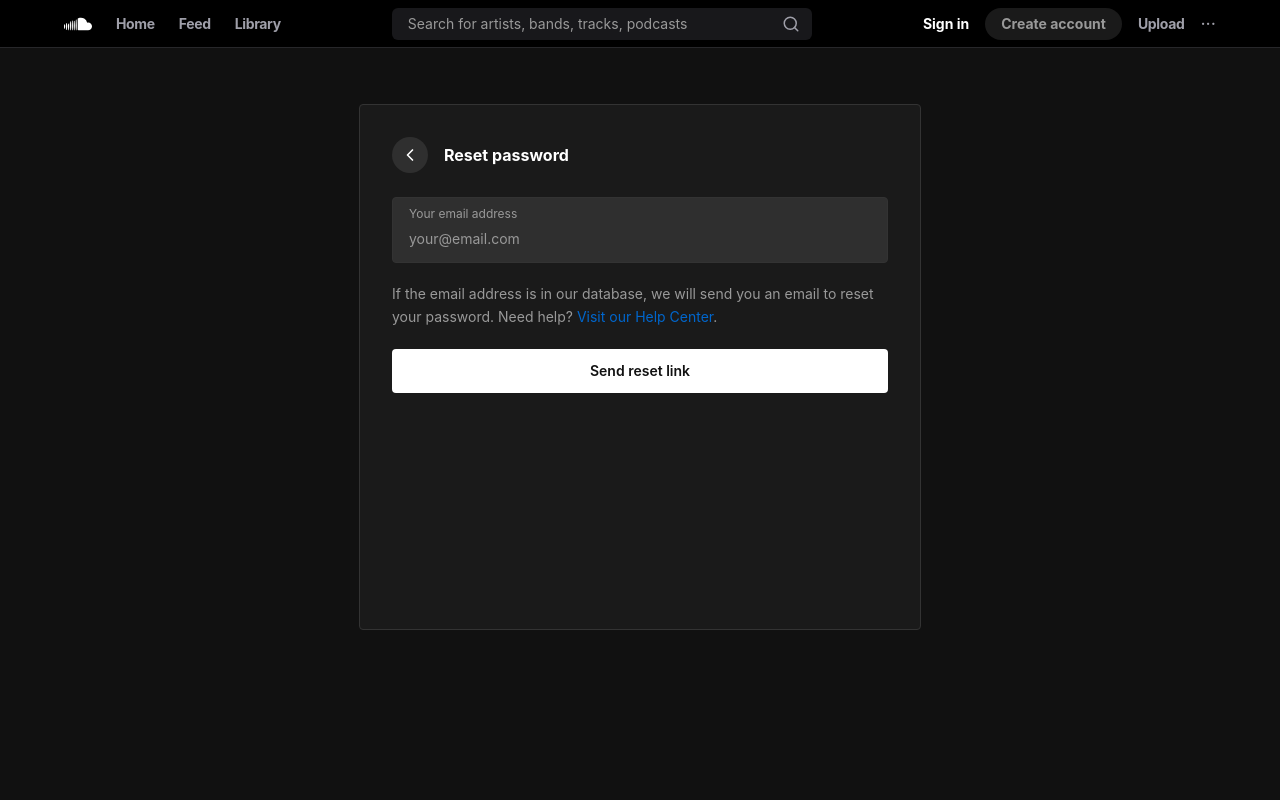
it: ForgotPasswordPage — validation › shows error for invalid email format
This screenshot has width=1280, height=800.
Type "notanemail" into the field with placeholder "your@email.com". click: {"x": 640, "y": 239}
box: [409,229,871,249]
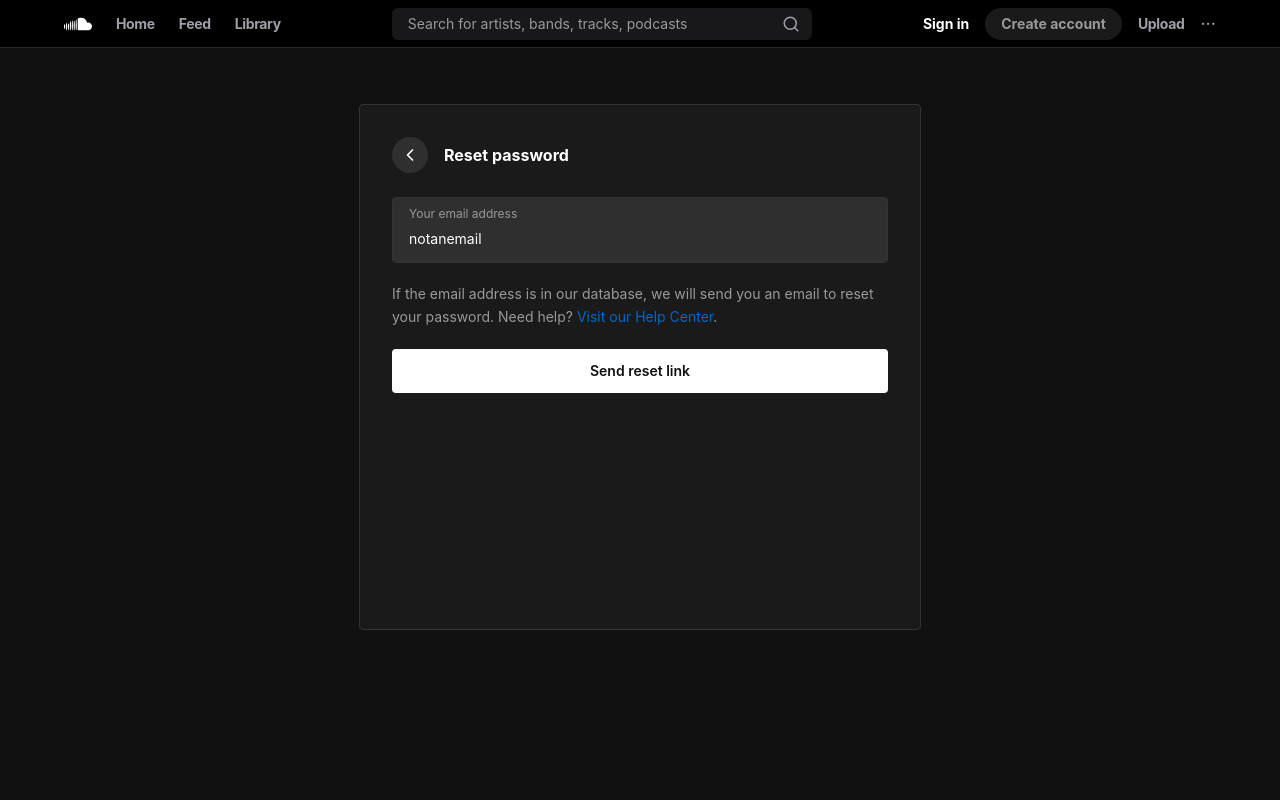
Click the button "Send reset link". click: {"x": 640, "y": 370}
box: [392,348,888,392]
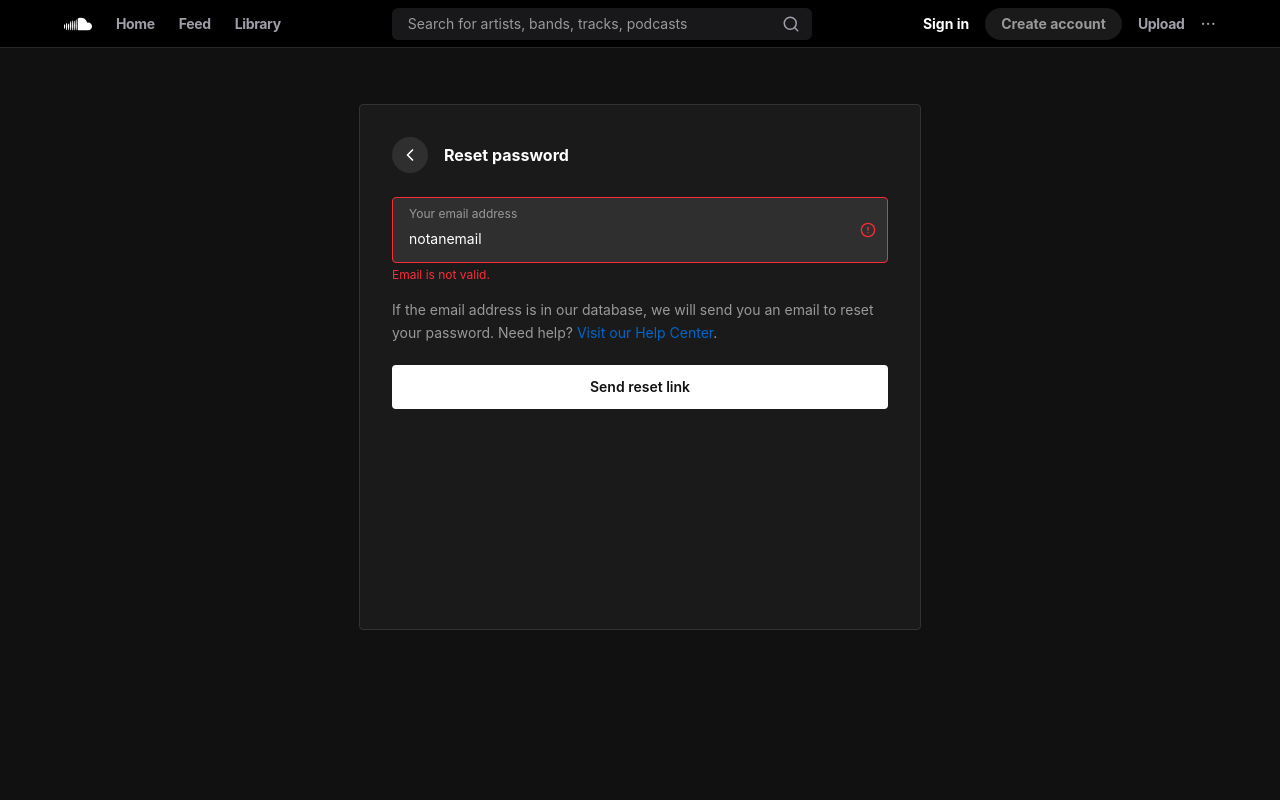
Result: the text "Email is not valid." is shown at [392,267,490,282]
